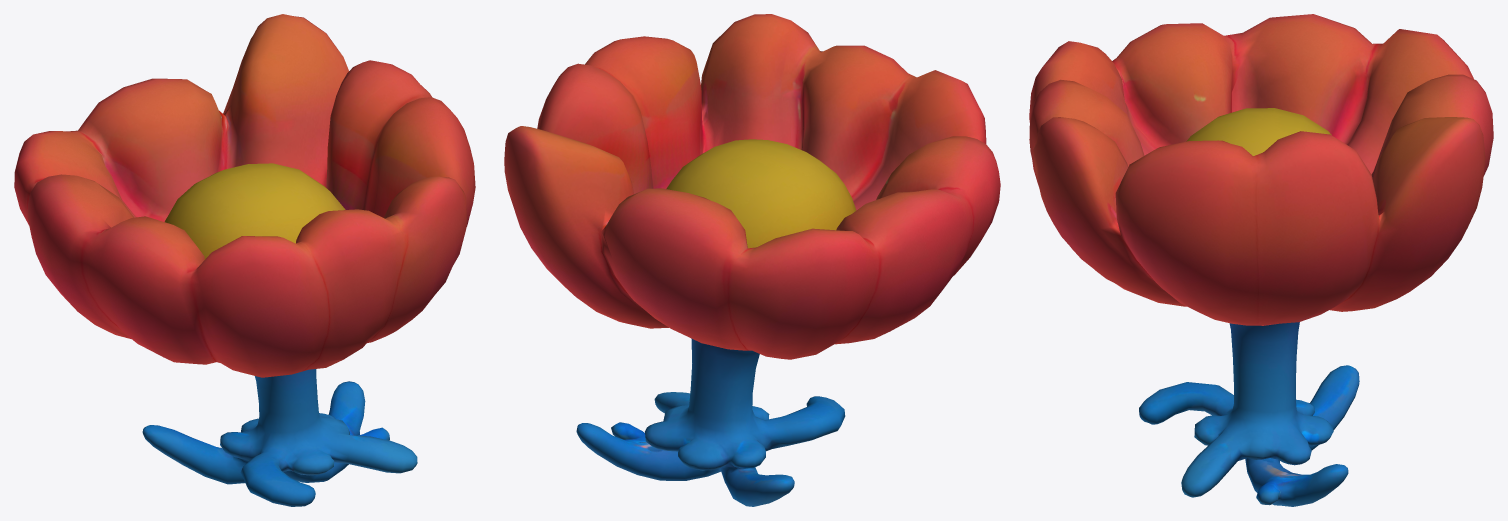
The model's file is fiore_pesche.fbx.
The picture shows the model from 3 angles, left to right: view 1: azimuth 30°, elevation 25°; view 2: azimuth 150°, elevation 25°; view 3: azimuth 270°, elevation 25°; orthographic projection. The views are drawn at different scales.
Visible parts, largest first — view 1: tripo_node_0427f55a; view 2: tripo_node_0427f55a; view 3: tripo_node_0427f55a.
Boxes of the visible parts, x1,y1,x2,y2 form: tripo_node_0427f55a: (14, 14, 475, 506); tripo_node_0427f55a: (504, 14, 1000, 506); tripo_node_0427f55a: (1029, 14, 1493, 506).
Size of the model in its own units: 128 by 122 by 126.
Materials: 1 (1 with a texture image).
